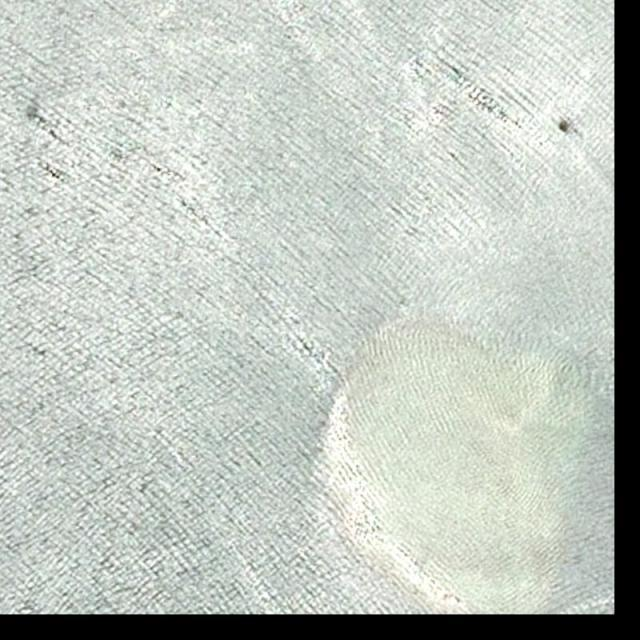ship: (558, 122, 570, 134)
